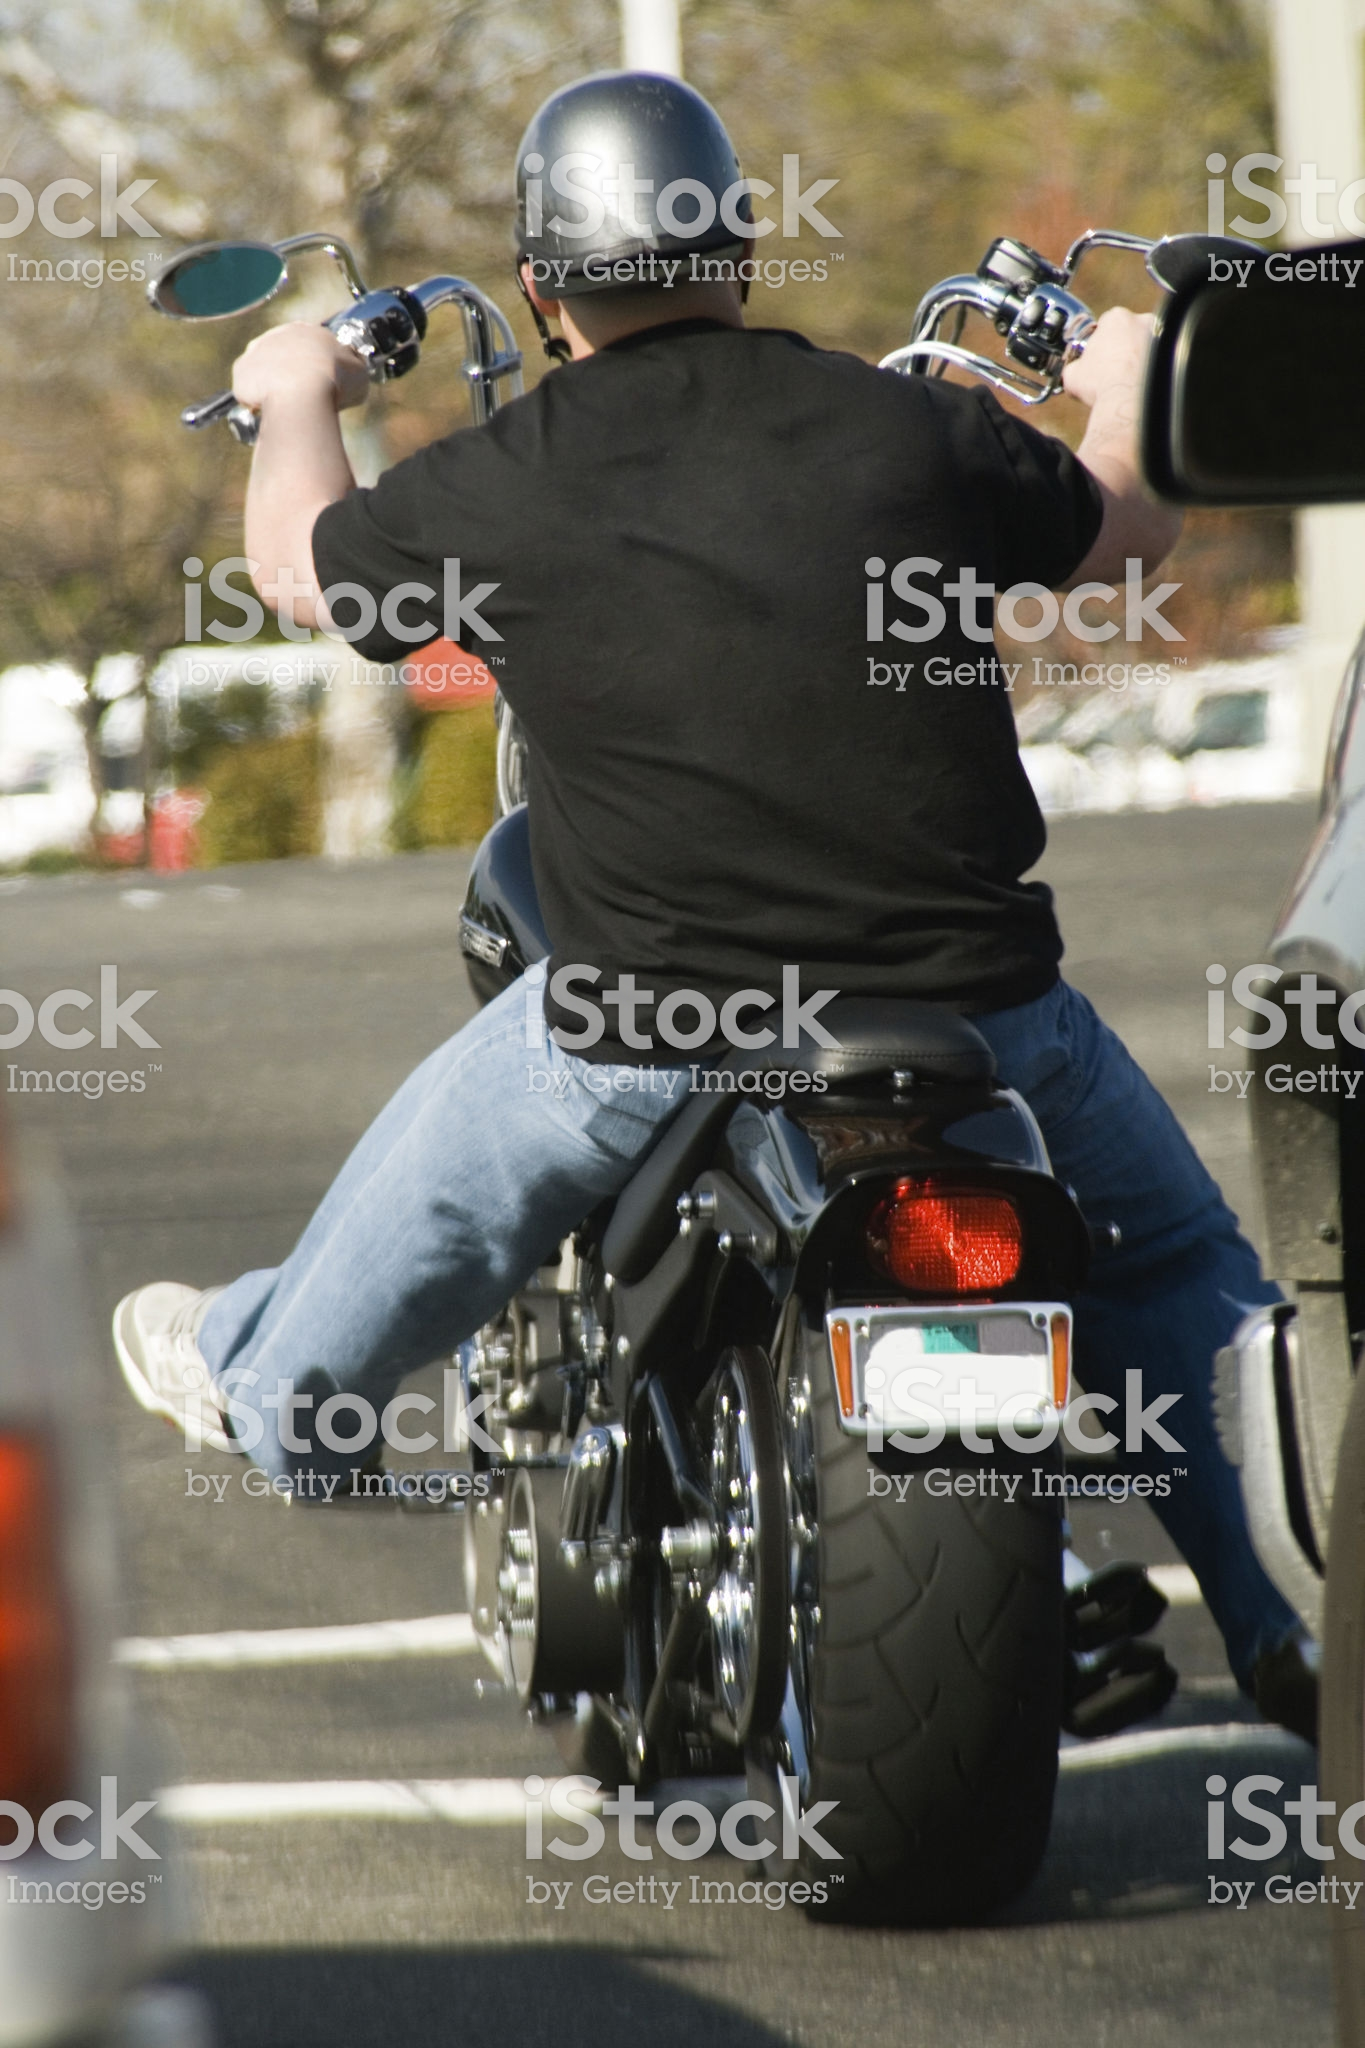helmet: (475, 59, 782, 297)
